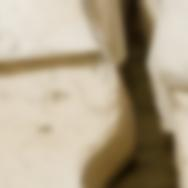broken_brick: (0, 0, 83, 41), (158, 0, 187, 89), (0, 40, 88, 63)
crack: (0, 0, 187, 187)
